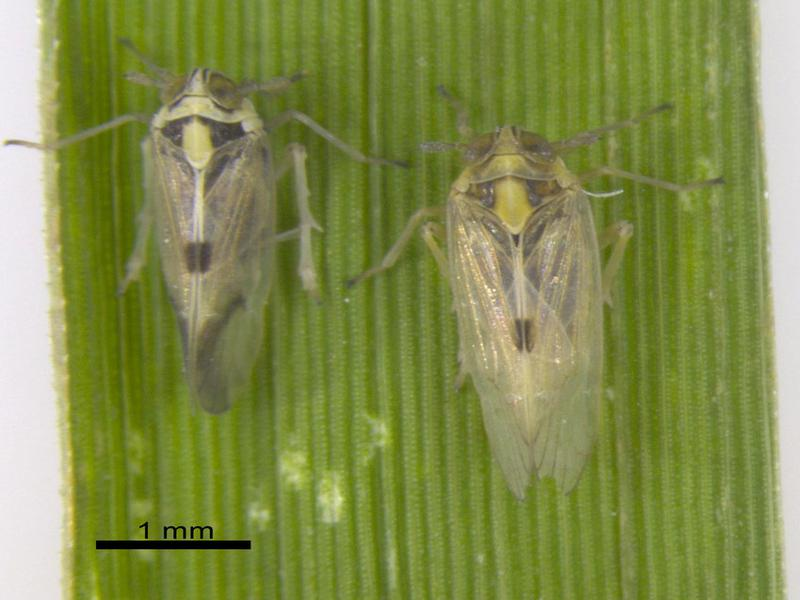White_backed_plant_hopper: (396, 124, 695, 516), (98, 60, 313, 420)
